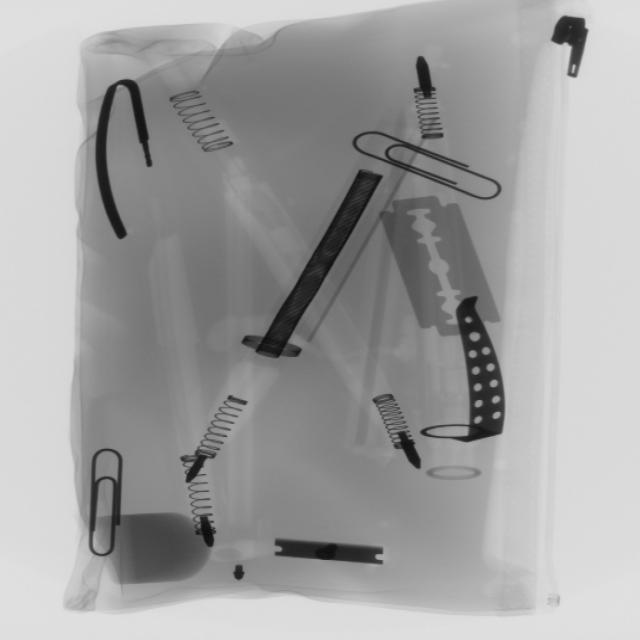BLADE: (380, 185, 503, 349)
